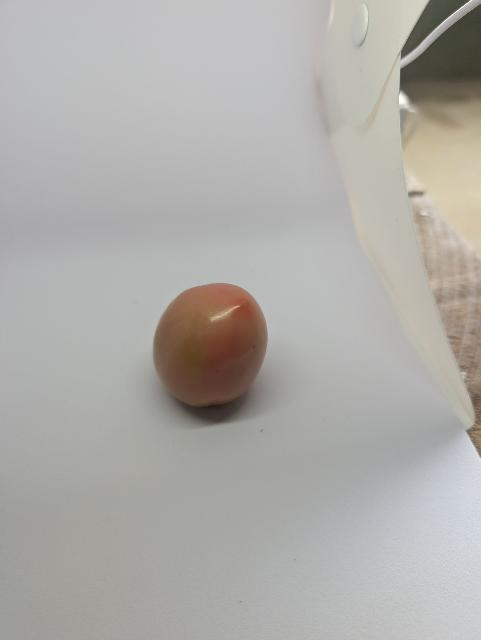red: (148, 276, 272, 415)
